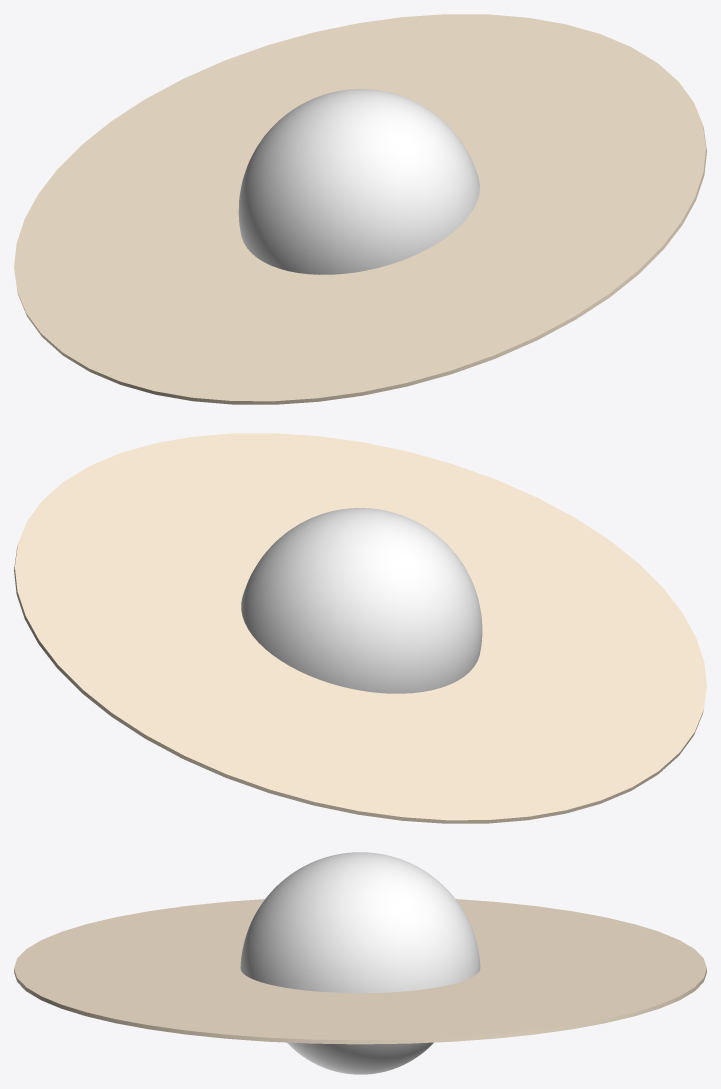
The model's file is black_hole.glb.
3 renders of one model, top to bottom at view 1: azimuth 30°, elevation 25°; view 2: azimuth 150°, elevation 25°; view 3: azimuth 270°, elevation 25°, orthographic.
Visible parts, largest first — view 1: Ellipse, Top; view 2: Ellipse, Top; view 3: Ellipse, Top, Bottomn.
Boxes of the visible parts, x1,y1,x2,y2 form: Ellipse: (14, 14, 706, 404); Top: (238, 89, 479, 274); Ellipse: (14, 433, 706, 823); Top: (241, 508, 482, 693); Ellipse: (14, 899, 706, 1044); Top: (240, 852, 480, 993); Bottomn: (287, 1042, 433, 1074).
Size of the model in its own units: 4.88 by 1.61 by 5.
